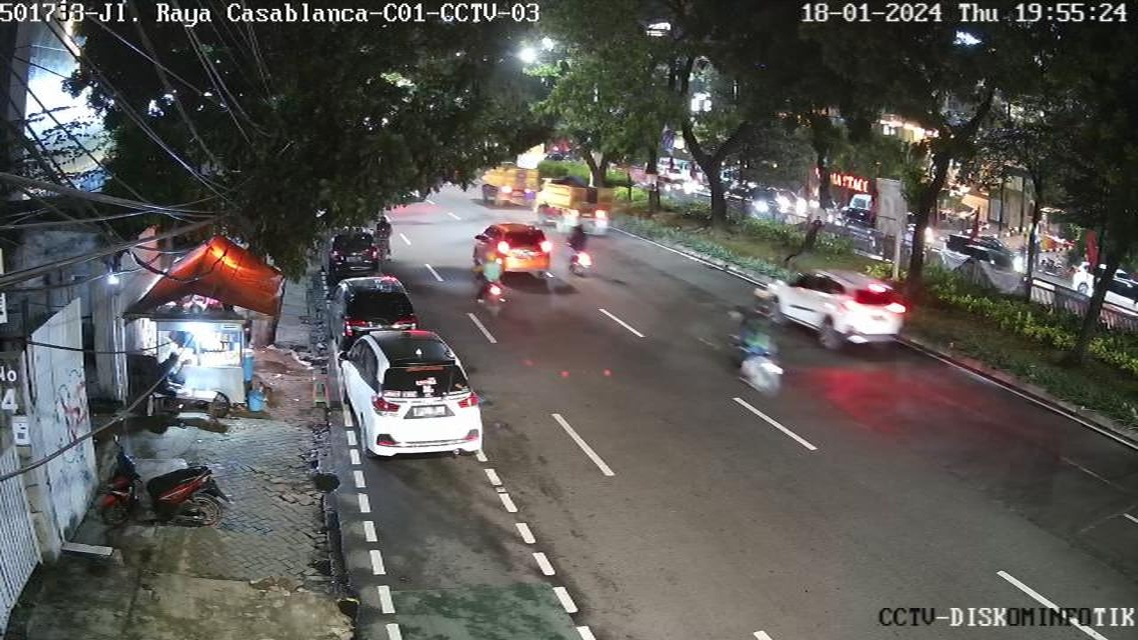Gerobak: (144, 312, 260, 418)
